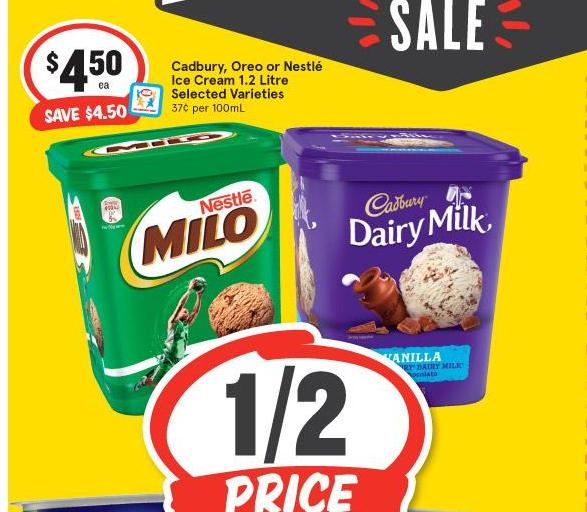description_block: (163, 56, 327, 101)
price_main: (32, 36, 135, 97)
product_image_block: (26, 129, 536, 363)
promo_text_block: (37, 99, 133, 125)
unit_price_block: (166, 100, 258, 115)
